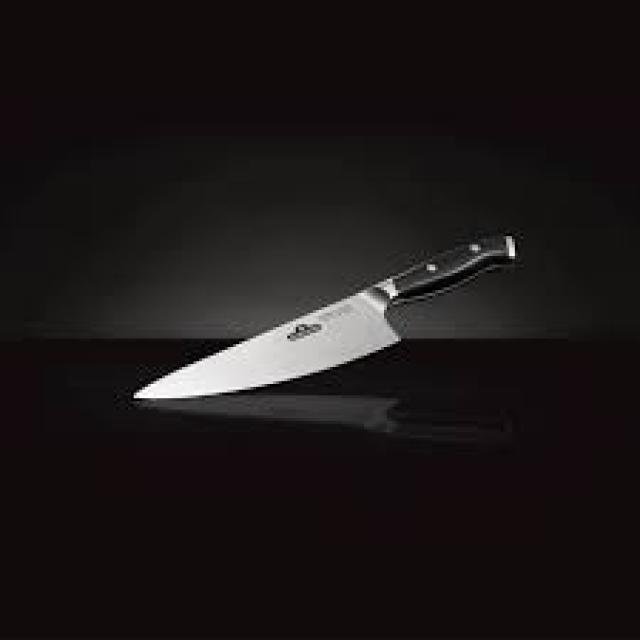Knife: (131, 230, 518, 401)
